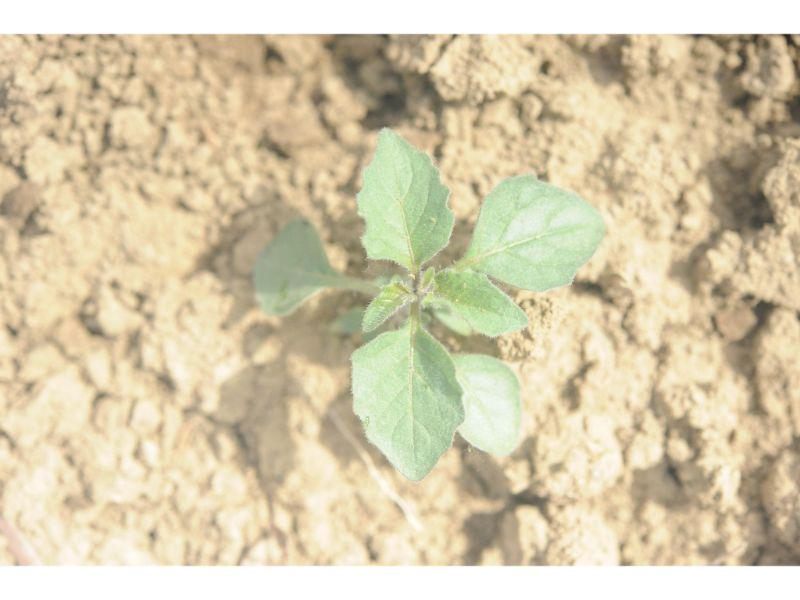nightshade: (252, 124, 606, 481)
